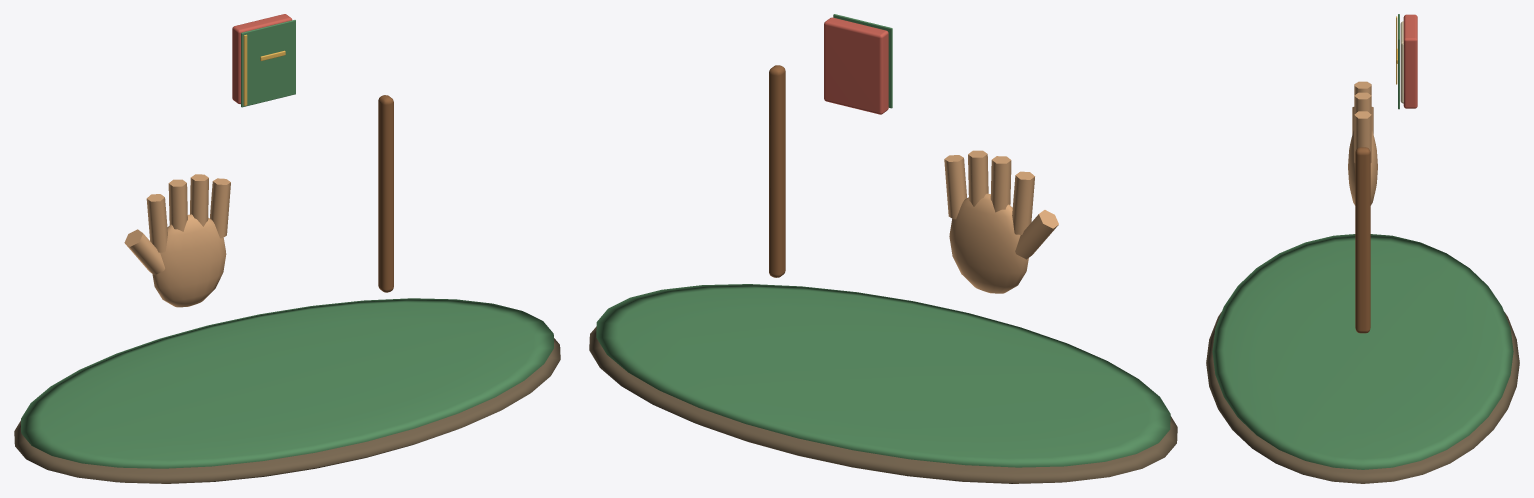
Rendered from complete-third-hit-poking-interruption.glb.
The picture shows the model from 3 angles, left to right: view 1: azimuth 30°, elevation 25°; view 2: azimuth 150°, elevation 25°; view 3: azimuth 270°, elevation 25°; orthographic projection. The views are drawn at different scales.
Visible parts, largest first — view 1: complete-third-hit-poking-interruption_surface_01, complete-third-hit-poking-interruption_surface_02, complete-third-hit-poking-interruption_surface_00, complete-third-hit-poking-interruption_surface_03, complete-third-hit-poking-interruption_surface_04; view 2: complete-third-hit-poking-interruption_surface_01, complete-third-hit-poking-interruption_surface_02, complete-third-hit-poking-interruption_surface_00, complete-third-hit-poking-interruption_surface_04, complete-third-hit-poking-interruption_surface_03; view 3: complete-third-hit-poking-interruption_surface_01, complete-third-hit-poking-interruption_surface_00, complete-third-hit-poking-interruption_surface_03, complete-third-hit-poking-interruption_surface_02, complete-third-hit-poking-interruption_surface_04.
Part boxes in pixels (<box>): complete-third-hit-poking-interruption_surface_01: <box>21,20,553,468</box>; complete-third-hit-poking-interruption_surface_02: <box>124,174,230,307</box>; complete-third-hit-poking-interruption_surface_00: <box>14,338,560,483</box>; complete-third-hit-poking-interruption_surface_03: <box>378,95,393,292</box>; complete-third-hit-poking-interruption_surface_04: <box>232,14,292,104</box>; complete-third-hit-poking-interruption_surface_01: <box>596,14,1170,467</box>; complete-third-hit-poking-interruption_surface_02: <box>944,150,1058,293</box>; complete-third-hit-poking-interruption_surface_00: <box>589,326,1177,483</box>; complete-third-hit-poking-interruption_surface_04: <box>824,17,888,114</box>; complete-third-hit-poking-interruption_surface_03: <box>769,65,785,277</box>; complete-third-hit-poking-interruption_surface_01: <box>1212,14,1513,469</box>; complete-third-hit-poking-interruption_surface_00: <box>1206,312,1519,483</box>; complete-third-hit-poking-interruption_surface_03: <box>1355,147,1370,333</box>; complete-third-hit-poking-interruption_surface_02: <box>1348,81,1377,205</box>; complete-third-hit-poking-interruption_surface_04: <box>1403,14,1417,108</box>.
Size of the model in its own units: 4.56 by 3.09 by 2.5.
